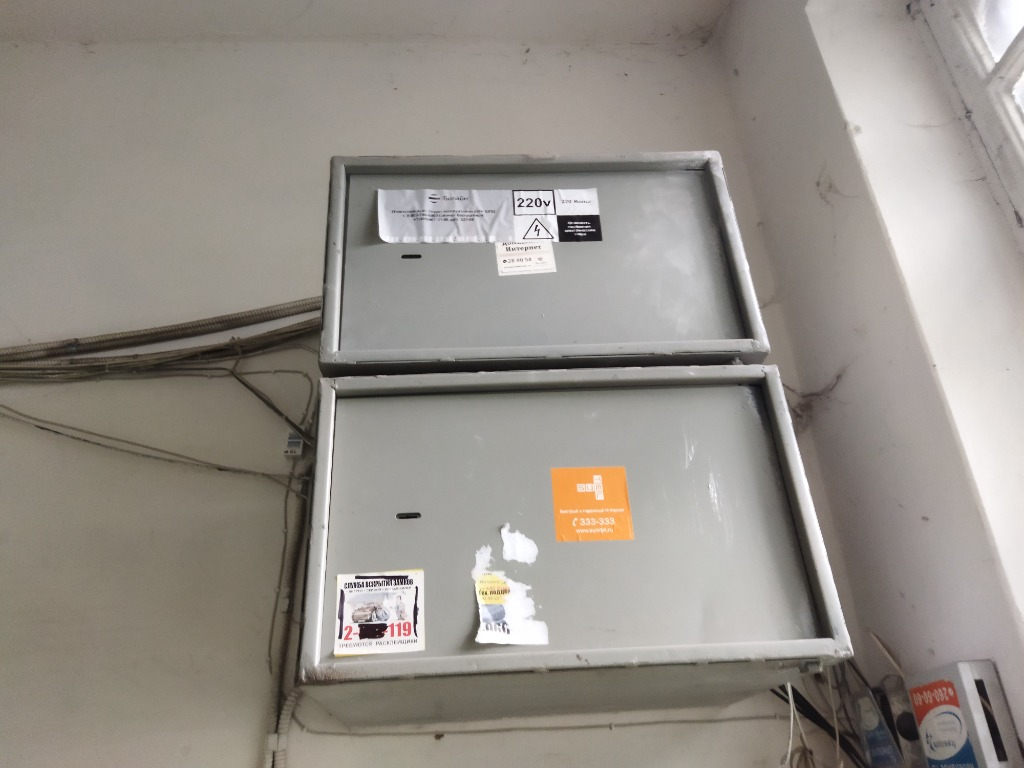e2-6u: (299, 147, 775, 367)
